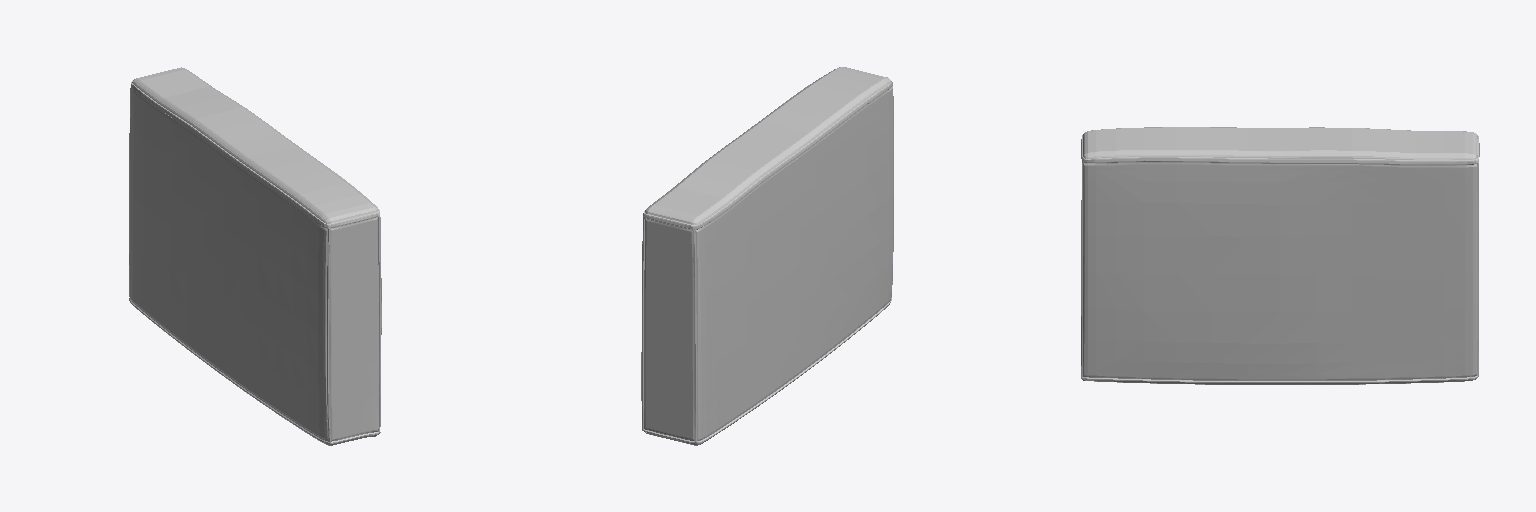
The model's file is couch-side-right.obj.
3 renders of one model, left to right at view 1: azimuth 30°, elevation 25°; view 2: azimuth 150°, elevation 25°; view 3: azimuth 270°, elevation 25°, orthographic.
Parts seen in each view (by area): view 1: 3_side_Untitled; view 2: 3_side_Untitled; view 3: 3_side_Untitled.
Boxes of the visible parts, x1=… form: 3_side_Untitled: x1=129, y1=67, x2=381, y2=445; 3_side_Untitled: x1=641, y1=67, x2=893, y2=445; 3_side_Untitled: x1=1081, y1=127, x2=1479, y2=384.
Bounding box in the file's own units: 0.3819 × 1.31 × 2.02.